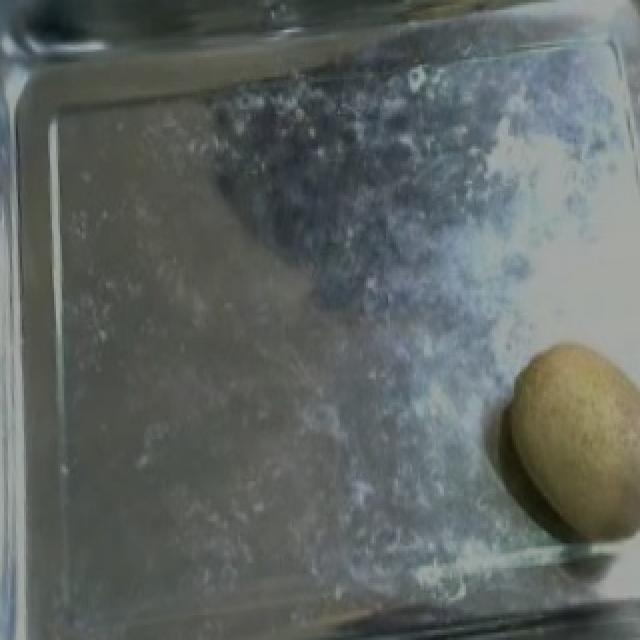Fruit: (494, 330, 640, 561)
